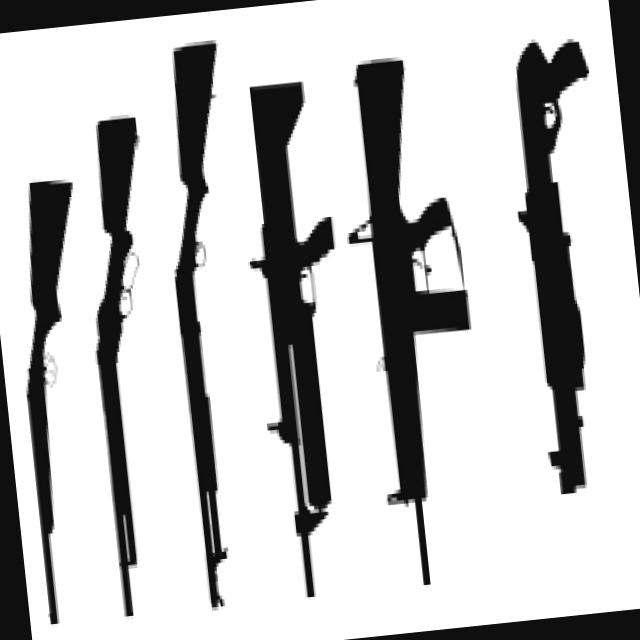long weapon: (330, 23, 503, 613), (483, 0, 640, 533), (236, 43, 376, 623), (152, 13, 269, 616), (82, 42, 167, 640), (0, 84, 81, 640)
